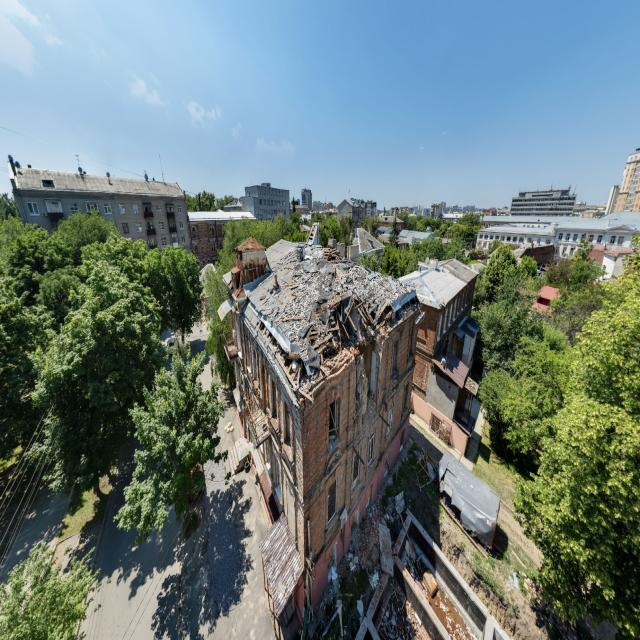broken_window: (328, 395, 340, 452), (326, 476, 337, 524)
building: (221, 235, 425, 634), (7, 153, 191, 256), (240, 182, 290, 222)
damaged_roof: (230, 237, 420, 404)
roof: (8, 155, 184, 198)
